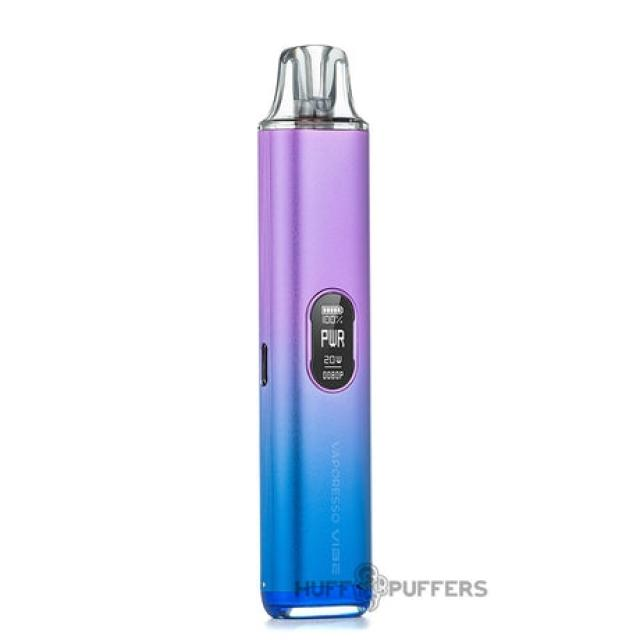Vapes: (254, 43, 373, 621)
